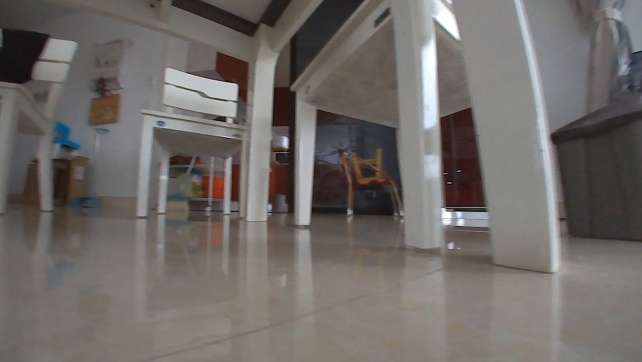dining_table1: (0, 0, 564, 273)
